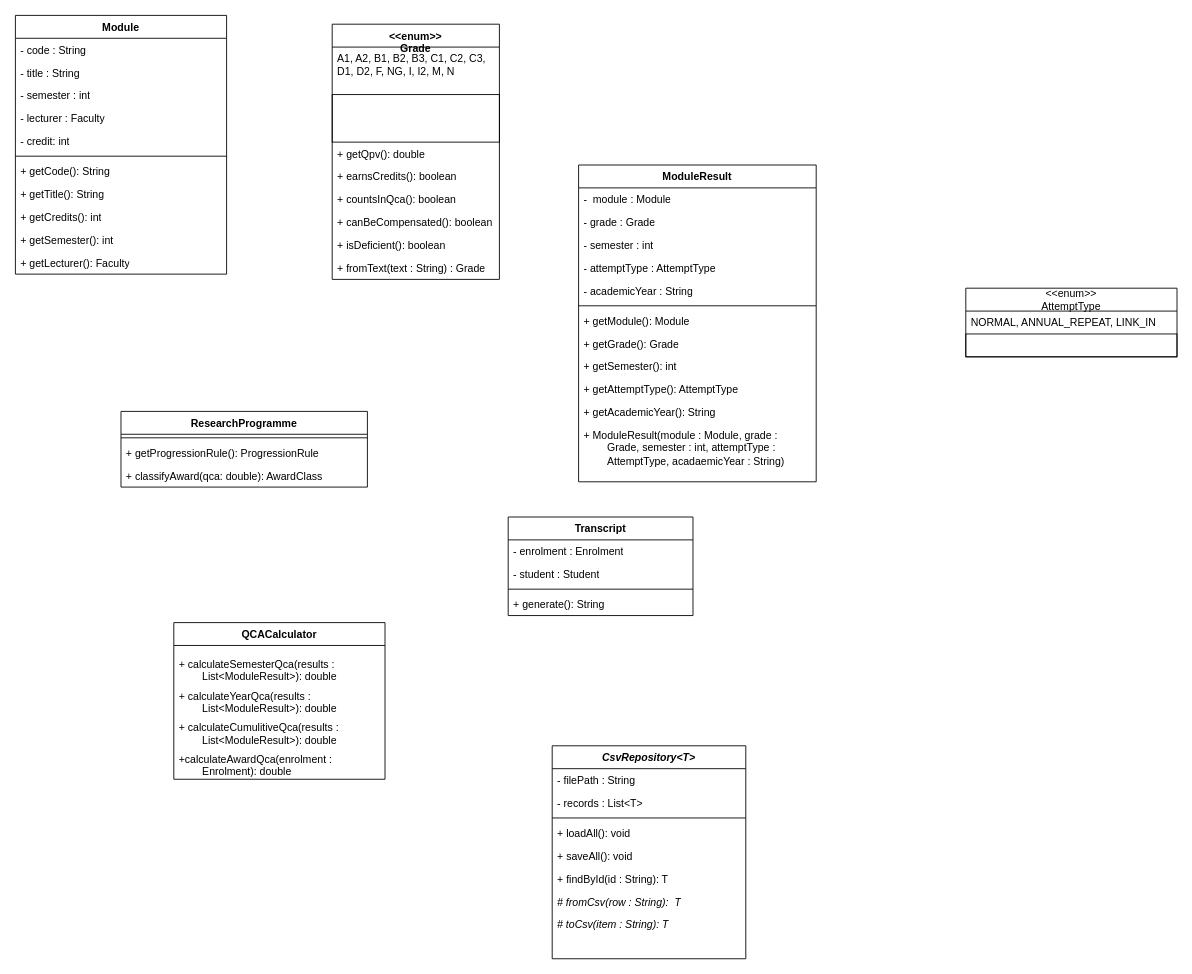
This 1192x974 diagram has some shape labels left out. Each missing label, with the centre of its shape:
"+ isCapped(): boolean" belongs at point 1071,345.
"- qpv : double - earnsCredits : boolean - countsInQCA : boolean" belongs at point 415,118.
